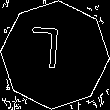L_S: (38, 29, 72, 81)
